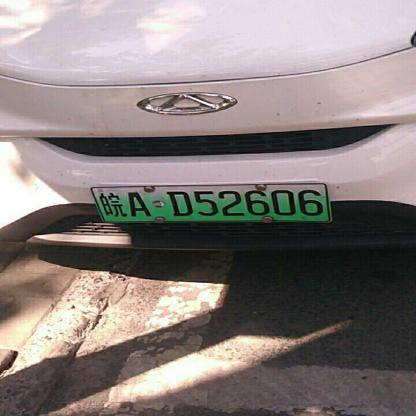lp: (92, 184, 329, 219)
